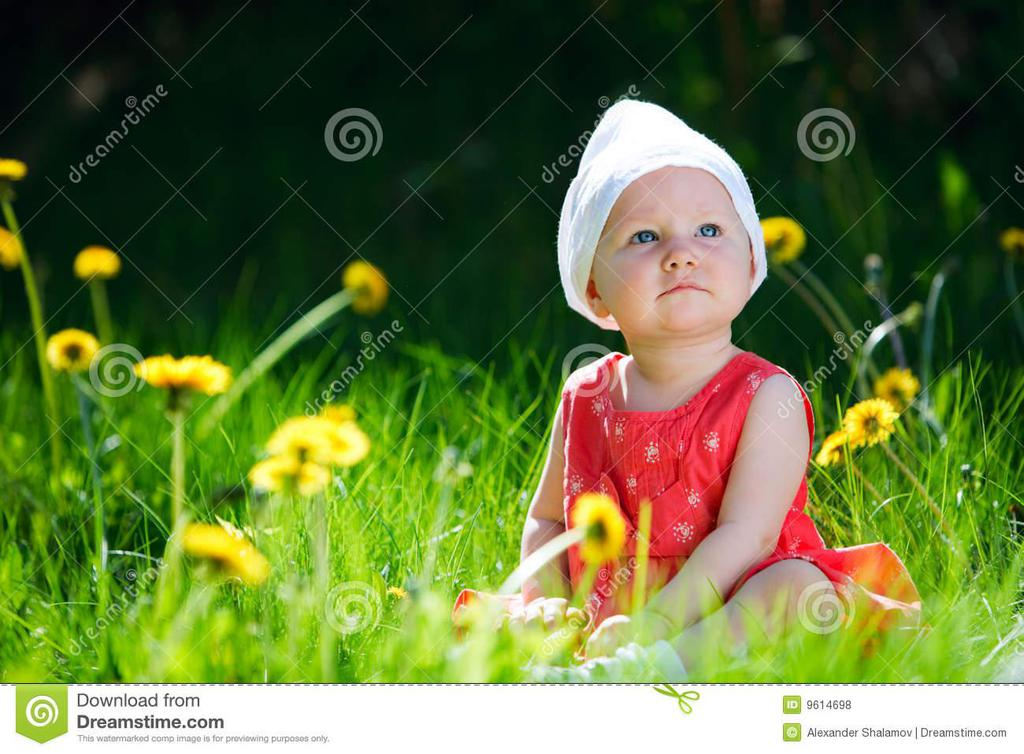child: (476, 84, 941, 675)
